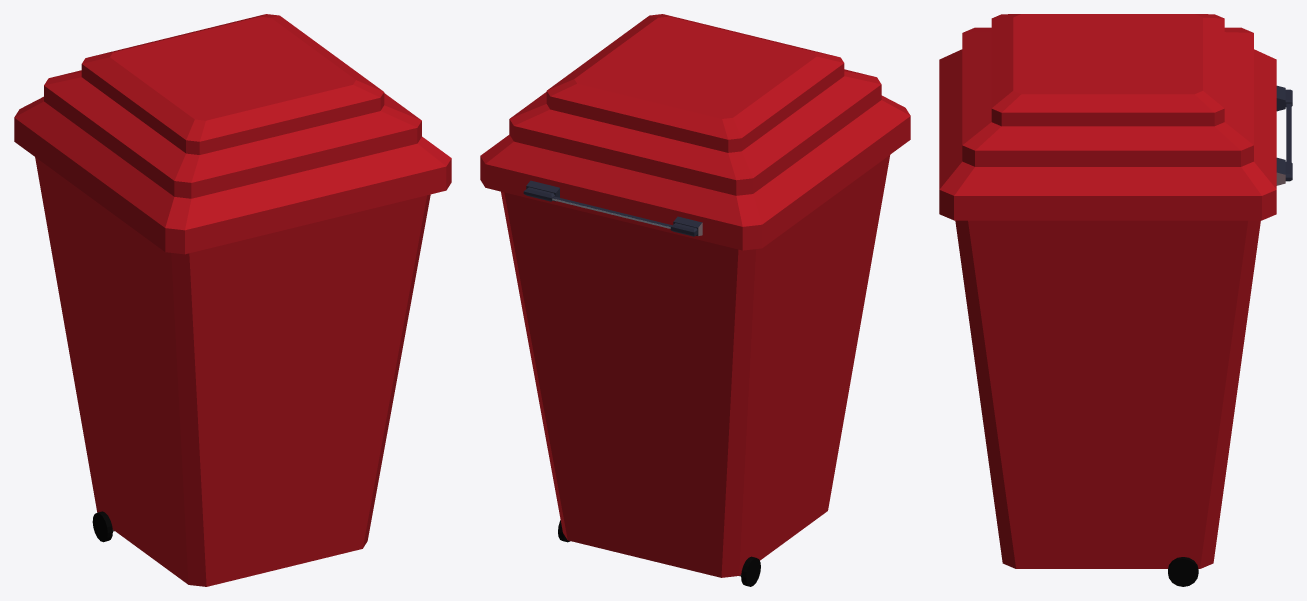
The model's file is TrashRed.fbx.
3 views of the same model, side by side, from view 1: azimuth 30°, elevation 25°; view 2: azimuth 150°, elevation 25°; view 3: azimuth 270°, elevation 25° (orthographic). The views are drawn at different scales.
Parts seen in each view (by area): view 1: Cube; view 2: Cube; view 3: Cube.
Boxes of the visible parts, x1,y1,x2,y2 form: Cube: (14, 14, 451, 586); Cube: (480, 14, 910, 586); Cube: (939, 14, 1292, 586).
Bounding box in the file's own units: 320 × 508 × 335.
